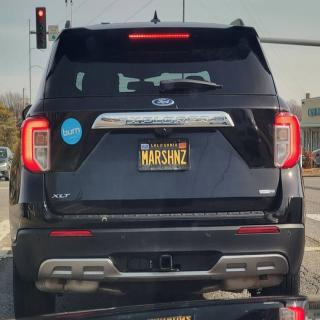license: (138, 138, 192, 173)
